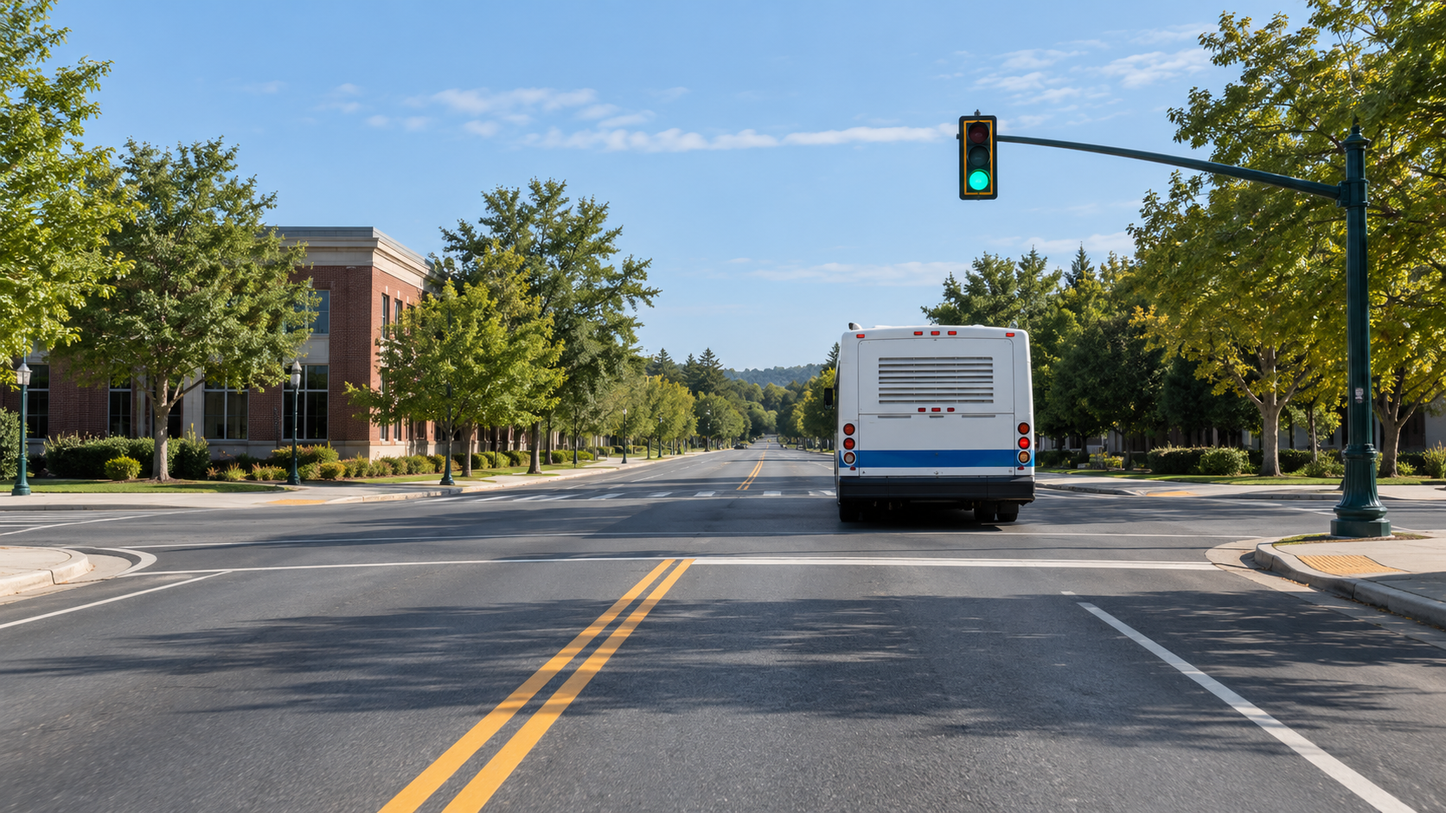stop_sign: (1219, 179, 1315, 274), (162, 181, 256, 271)
